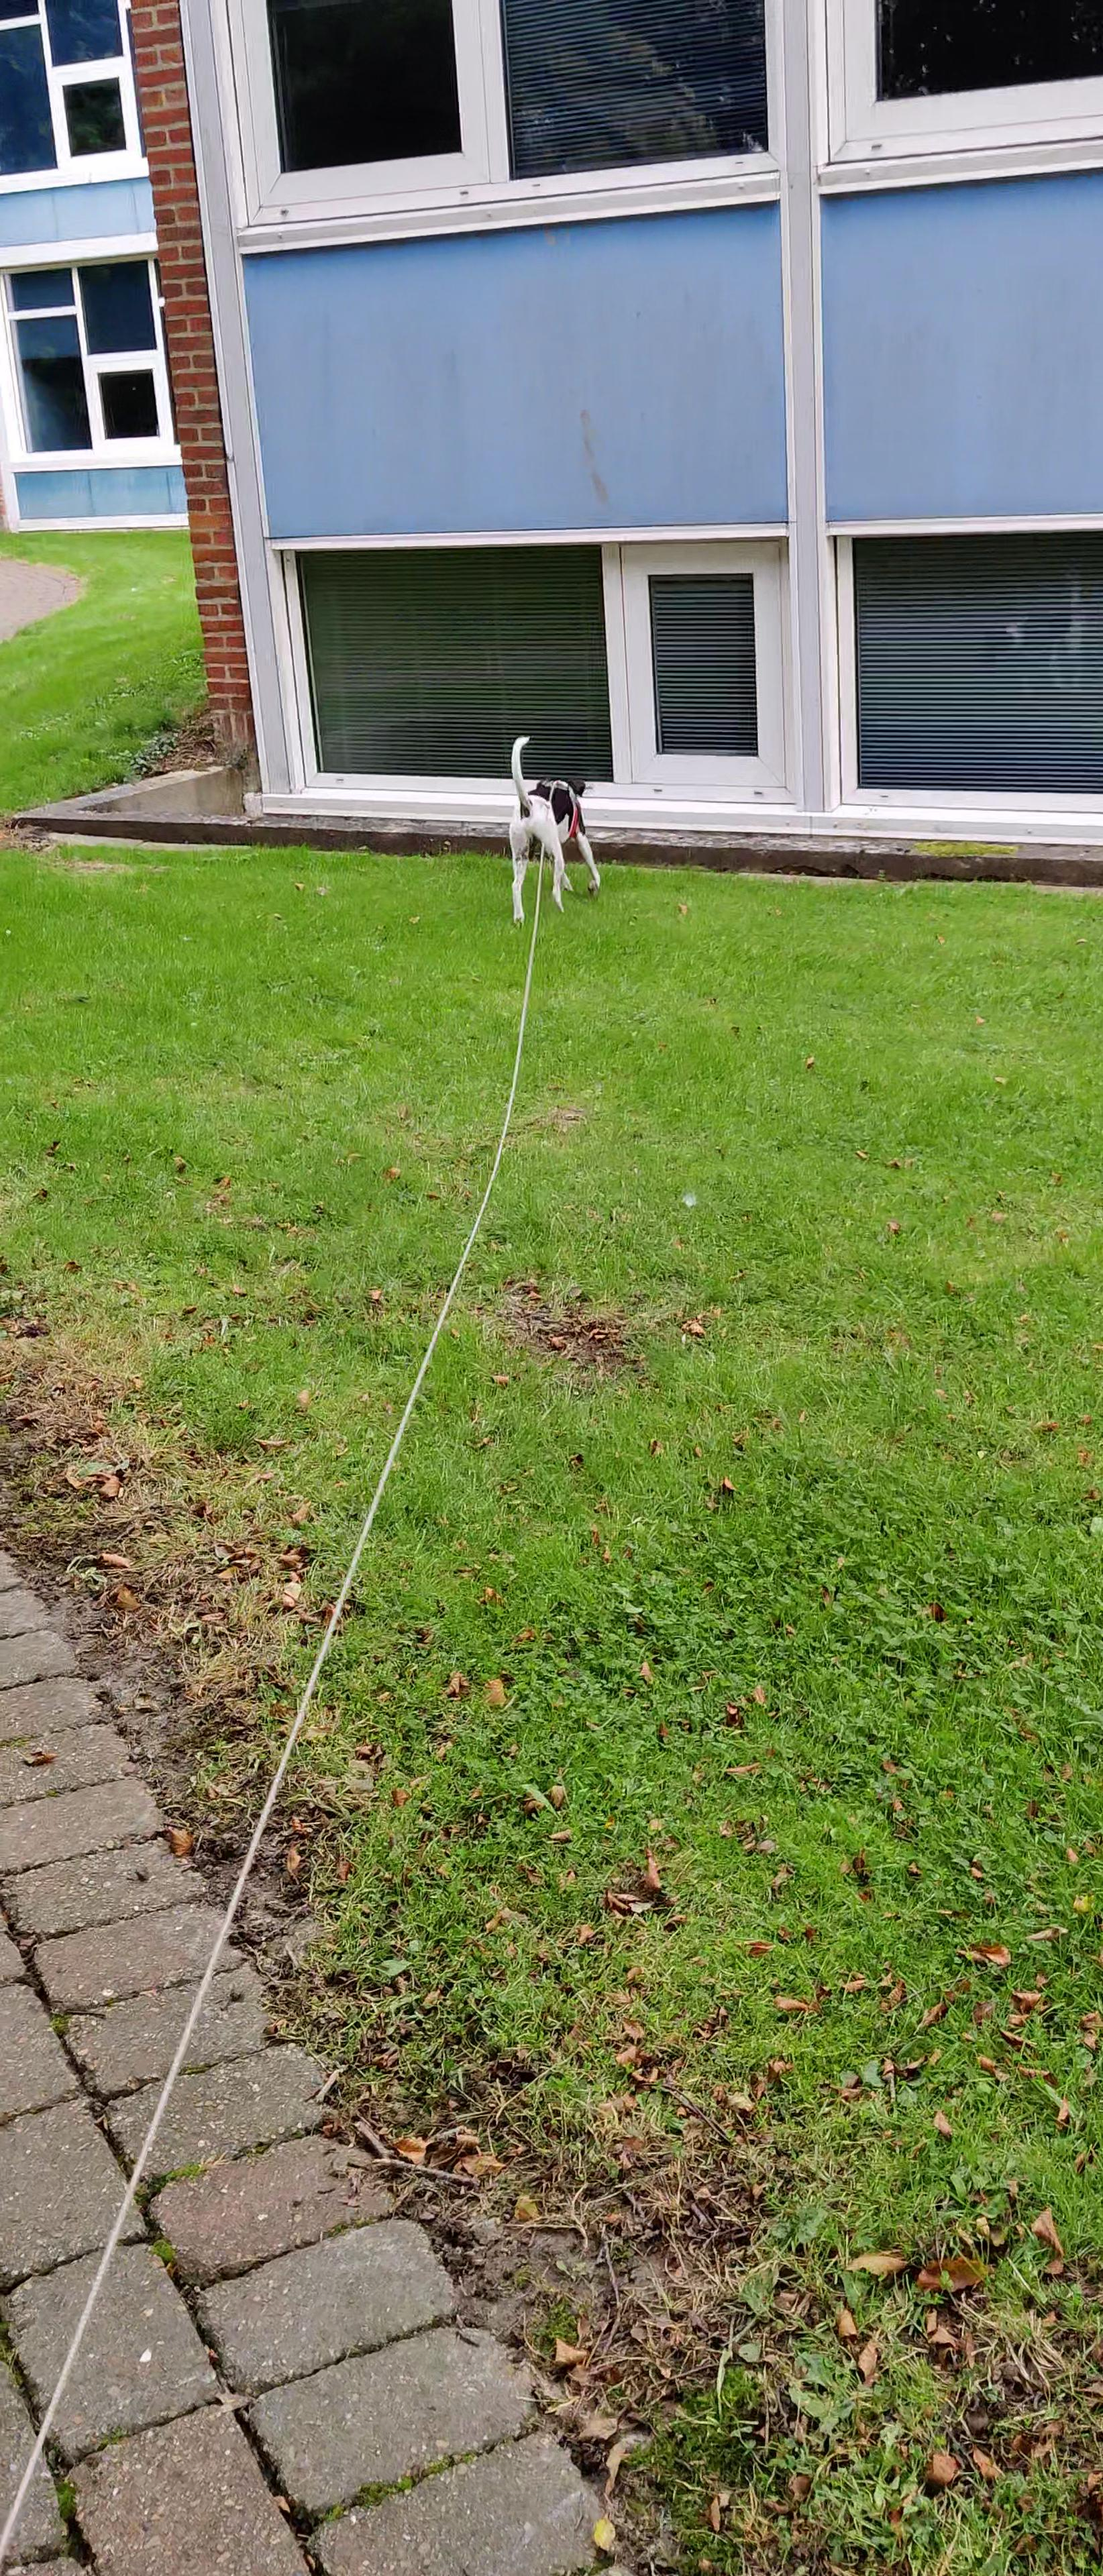Dog: (492, 723, 613, 933)
